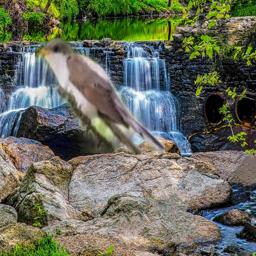Cuckoo: (35, 38, 165, 153)
